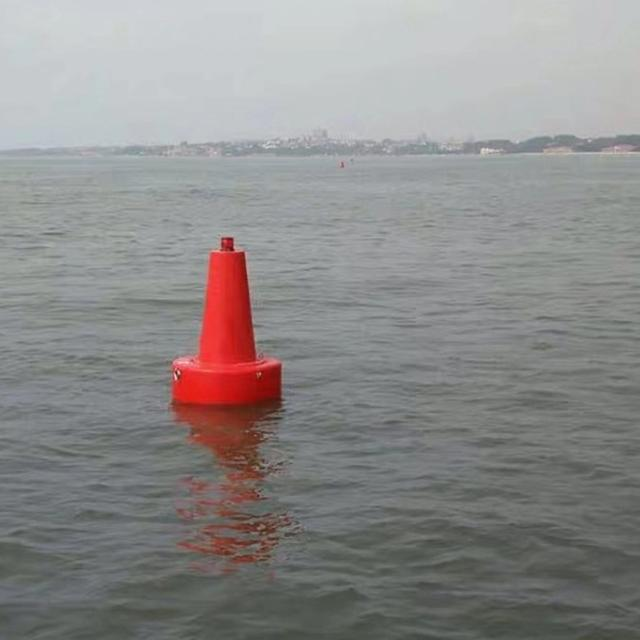buoy: (165, 228, 288, 410)
